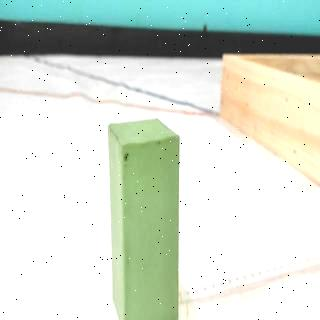greenbox: (106, 116, 182, 320)
